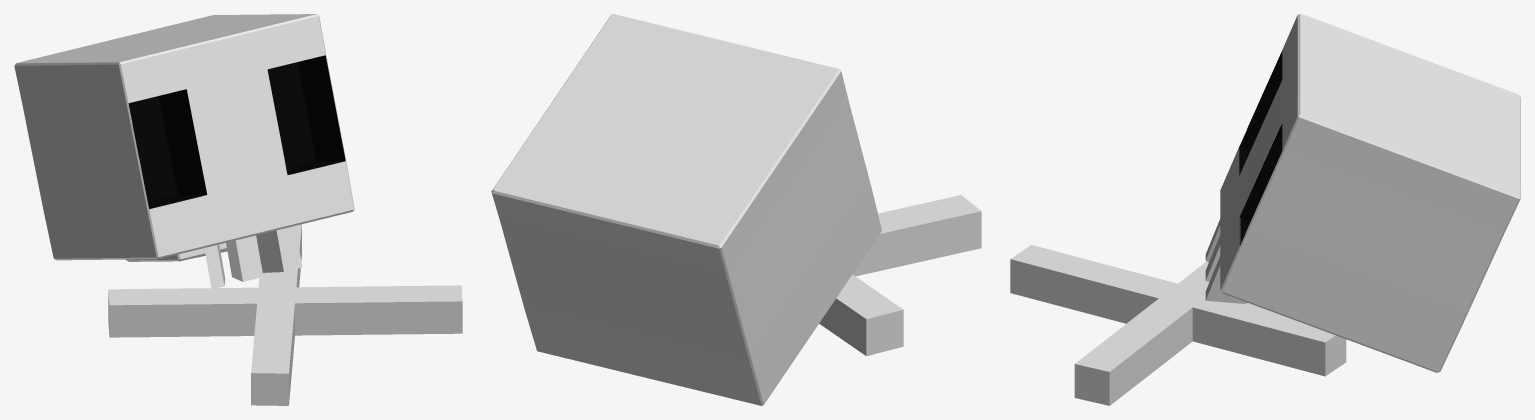
File: skull.fbx
The picture shows the model from 3 angles, left to right: view 1: azimuth 30°, elevation 25°; view 2: azimuth 150°, elevation 25°; view 3: azimuth 270°, elevation 25°; orthographic projection. The views are drawn at different scales.
Visible parts, largest first — view 1: polySurface17, pCube19, pCube18; view 2: polySurface17, pCube18, pCube19; view 3: polySurface17, pCube18, pCube19.
Part boxes in pixels (x1,y1,x2,y2): polySurface17: [14, 14, 354, 289]; pCube19: [108, 285, 462, 337]; pCube18: [251, 224, 301, 405]; polySurface17: [491, 14, 881, 405]; pCube18: [852, 195, 981, 276]; pCube19: [819, 274, 903, 356]; polySurface17: [1205, 14, 1520, 372]; pCube18: [1010, 245, 1346, 376]; pCube19: [1074, 261, 1209, 405].
Bounding box in the file's own units: 1.95 × 1.64 × 2.88.
